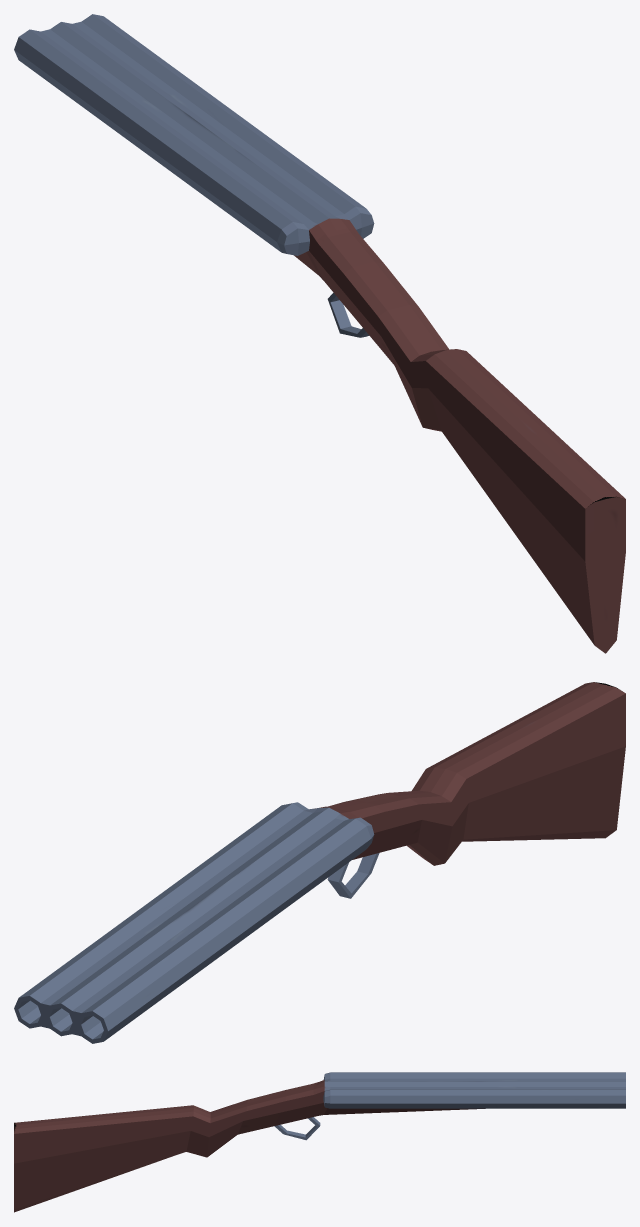
File: shotgun.glb
3 views of the same model, one above another, from view 1: azimuth 30°, elevation 25°; view 2: azimuth 150°, elevation 25°; view 3: azimuth 270°, elevation 25° (orthographic). The views are drawn at different scales.
Parts seen in each view (by area): view 1: shotgun; view 2: shotgun; view 3: shotgun.
Part boxes in pixels (<box>): shotgun: <box>14,14,625,653</box>; shotgun: <box>14,682,625,1043</box>; shotgun: <box>14,1072,625,1212</box>.
Size of the model in its own units: 0.434 by 1.03 by 4.34.
Materials: 1 (1 with a texture image).
